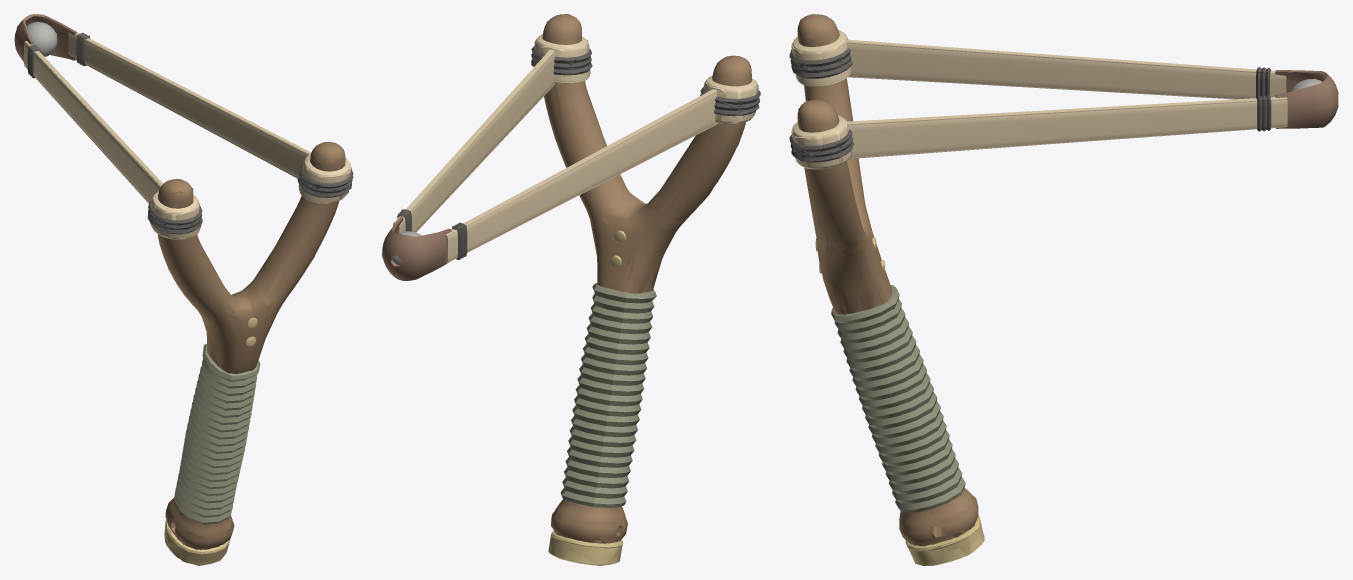
The model's file is slingshot.glb.
3 renders of one model, left to right at view 1: azimuth 30°, elevation 25°; view 2: azimuth 150°, elevation 25°; view 3: azimuth 270°, elevation 25°, orthographic. The views are drawn at different scales.
Visible parts, largest first — view 1: body, lod, detail, mag; view 2: body, lod, detail; view 3: body, detail, lod.
Boxes of the visible parts, <box> form: body: <box>14,14,353,565</box>; lod: <box>15,14,353,565</box>; detail: <box>174,317,260,524</box>; mag: <box>26,22,57,56</box>; body: <box>382,14,760,565</box>; lod: <box>382,14,760,565</box>; detail: <box>560,230,656,508</box>; body: <box>789,14,1338,565</box>; detail: <box>815,238,965,512</box>; lod: <box>789,14,1338,565</box>.
Bounding box in the file's own units: 0.1179 × 0.2456 × 0.245.
